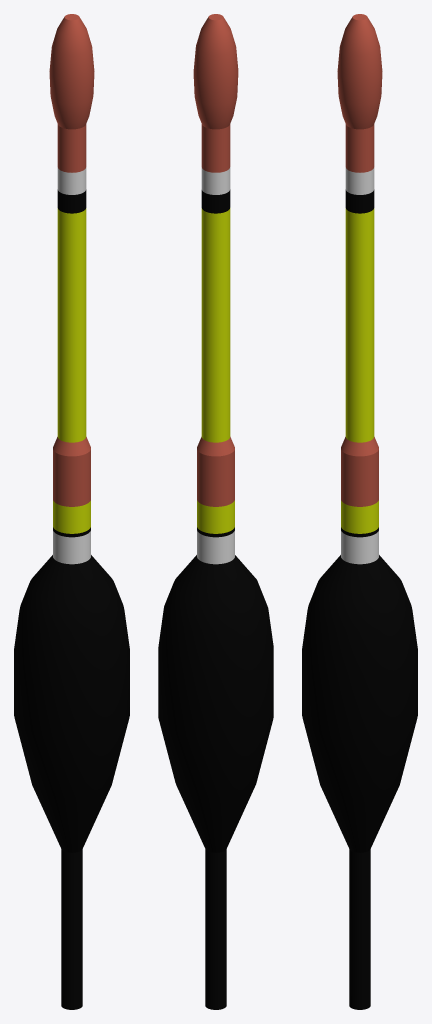
The model's file is splawik2.fbx.
The picture shows the model from 3 angles, left to right: view 1: azimuth 90°, elevation 25°; view 2: azimuth 150°, elevation 25°; view 3: azimuth 270°, elevation 25°; orthographic projection.
Visible parts, largest first — view 1: Cylinder.001; view 2: Cylinder.001; view 3: Cylinder.001.
Boxes of the visible parts, bbox=[...] form: Cylinder.001: bbox=[14, 14, 129, 1009]; Cylinder.001: bbox=[158, 14, 273, 1009]; Cylinder.001: bbox=[302, 14, 417, 1009].
Size of the model in its own units: 105 by 992 by 105.
